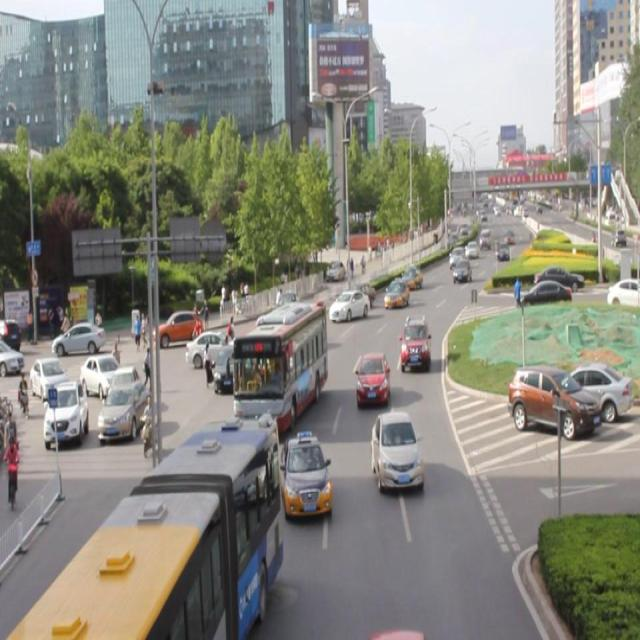car: (371, 411, 424, 491), (280, 436, 330, 514), (187, 329, 240, 370), (354, 352, 390, 404), (280, 310, 314, 360), (211, 345, 245, 395), (400, 317, 431, 369), (255, 335, 294, 376), (328, 290, 371, 322), (249, 315, 279, 358), (382, 278, 410, 310), (345, 280, 376, 307), (399, 263, 422, 288)
van: (1, 424, 279, 640), (234, 300, 327, 424)
